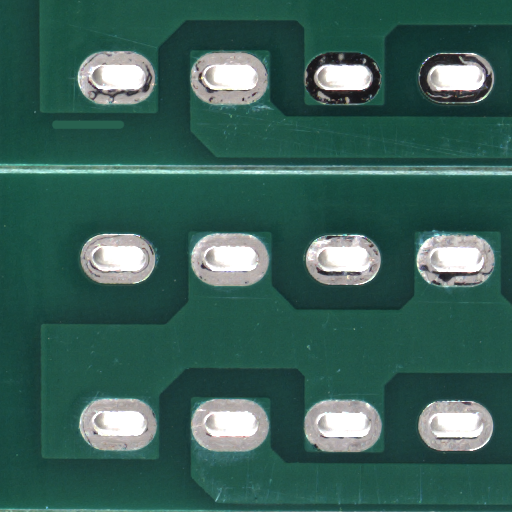Spurious_copper: (87, 124, 164, 136)
